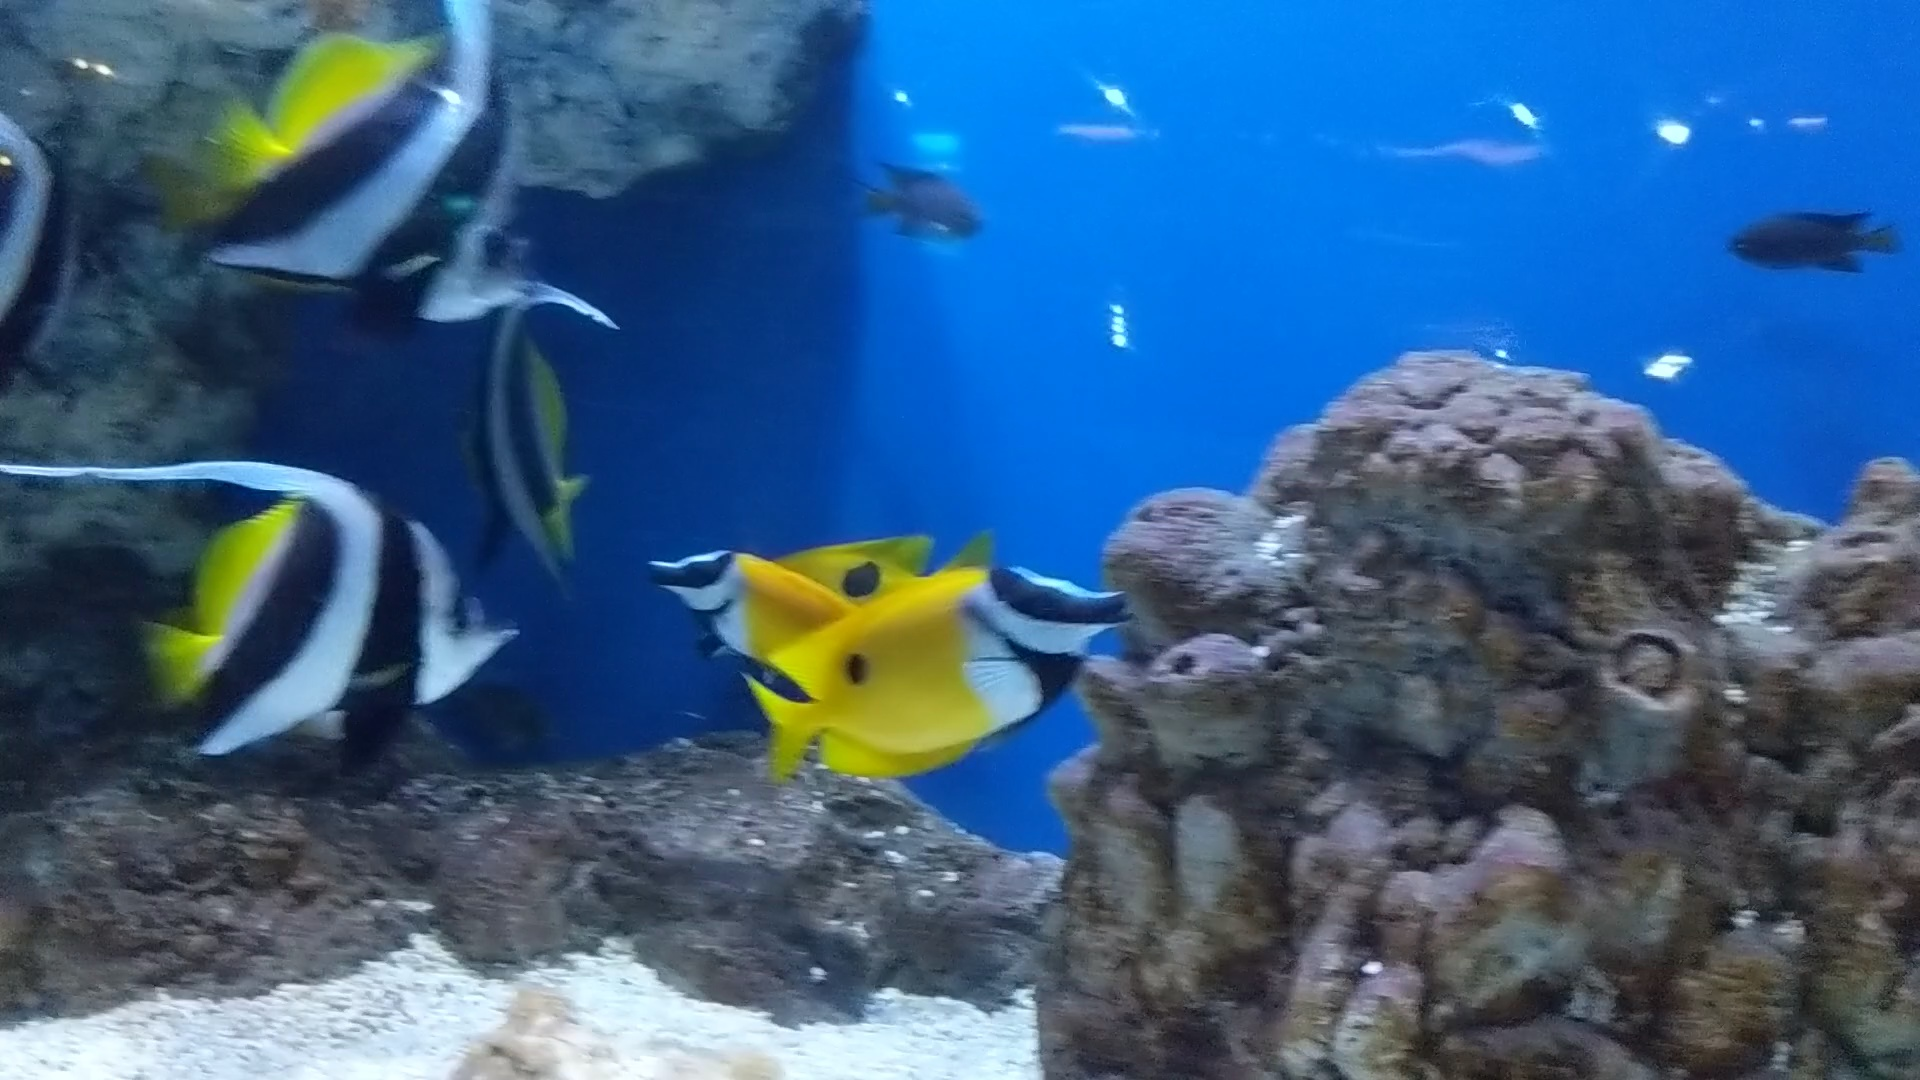moorfish: (11, 425, 525, 785), (53, 440, 533, 770), (138, 15, 541, 332), (173, 26, 541, 332), (460, 258, 626, 618), (448, 262, 630, 588)
rabbitfish: (769, 556, 1114, 800), (738, 580, 1110, 796), (642, 549, 843, 680), (645, 541, 839, 657)
